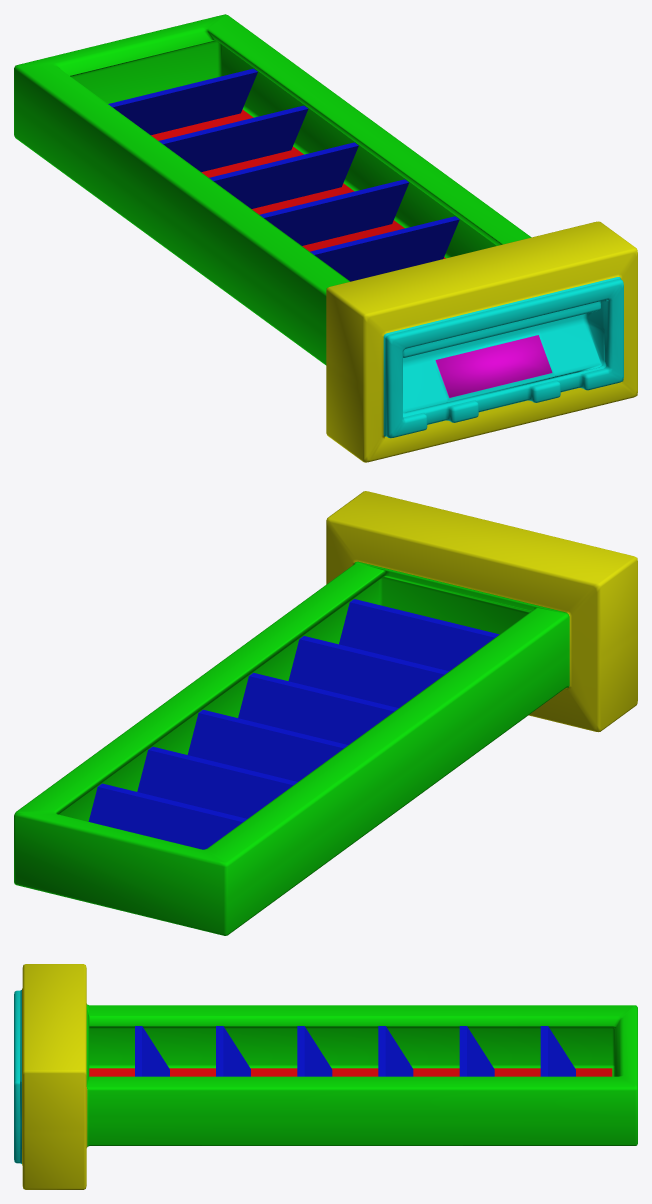
The model's file is Drawer.fbx.
The picture shows the model from 3 angles, top to bottom: view 1: azimuth 30°, elevation 25°; view 2: azimuth 150°, elevation 25°; view 3: azimuth 270°, elevation 25°; orthographic projection. The views are drawn at different scales.
Visible parts, largest first — view 1: SmallDrawer; view 2: SmallDrawer; view 3: SmallDrawer.
Boxes of the visible parts, x1,y1,x2,y2 form: SmallDrawer: (14,14,637,462); SmallDrawer: (14,491,637,935); SmallDrawer: (14,964,637,1189).
Size of the model in its own units: 15.1 by 7.82 by 36.87.
